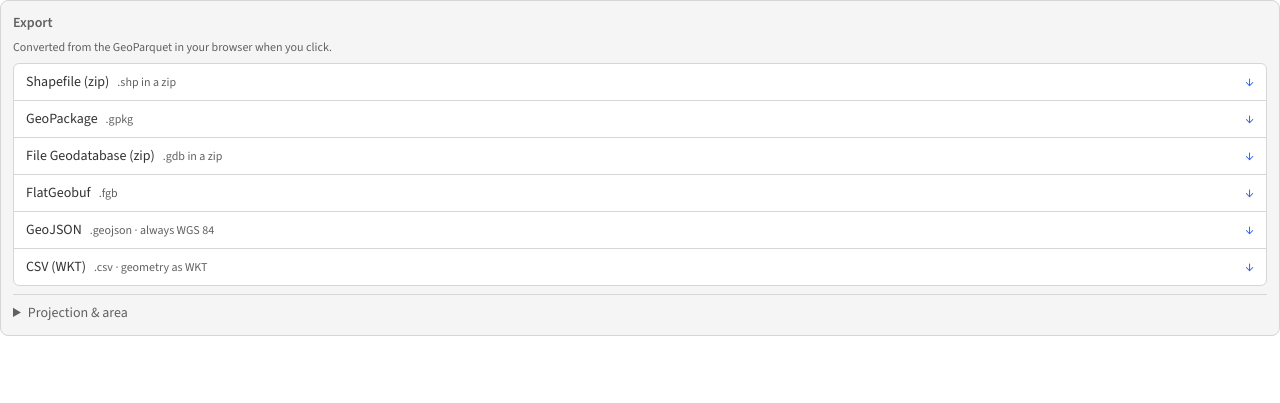
Test: DownloadsPanel › reports a failed export instead of failing silently
Click the button with aria-label "Download GeoJSON". click: [54, 230]
box: 14,212 -> 1266,249
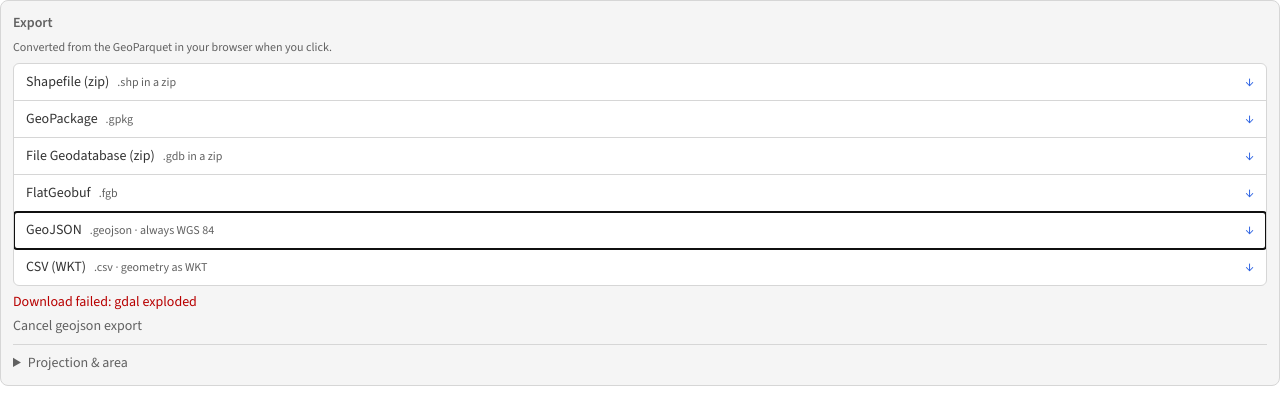
Expected: the message reads "Download failed: gdal exploded", 13,292 -> 197,311
